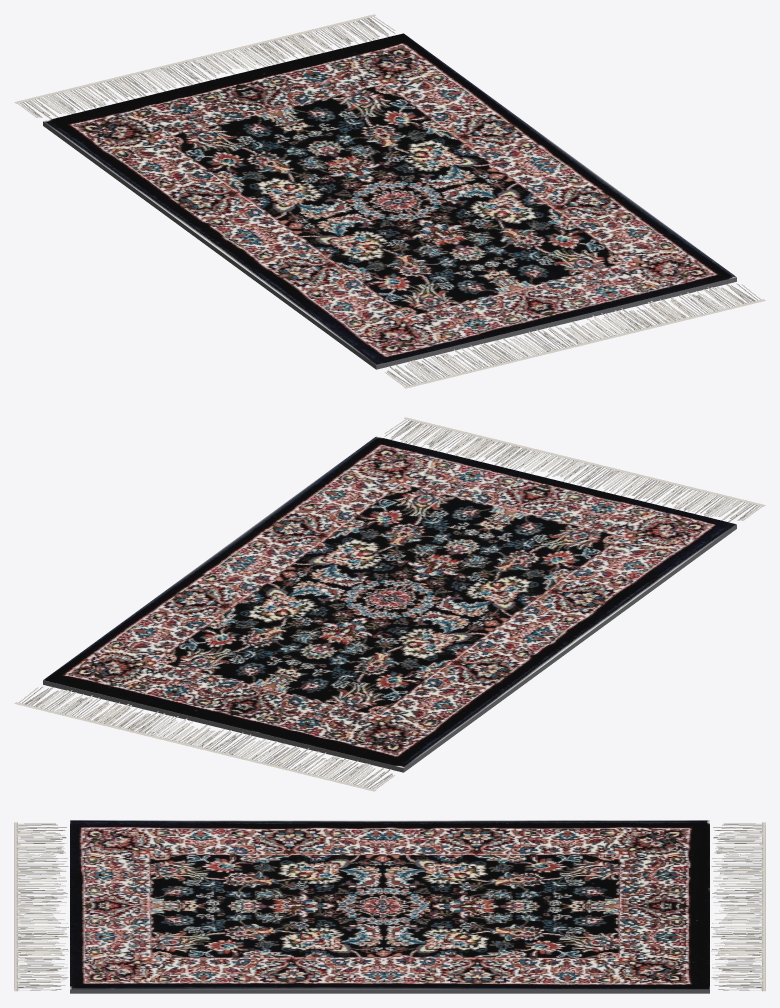
Rendered from rug_navy_50x80_v3.glb.
3 views of the same model, one above another, from view 1: azimuth 30°, elevation 25°; view 2: azimuth 150°, elevation 25°; view 3: azimuth 270°, elevation 25° (orthographic). The views are drawn at different scales.
Visible parts, largest first — view 1: rug, fringeB, fringeA, side; view 2: rug, fringeA, fringeB, side; view 3: rug, fringeA, fringeB, side.
Part boxes in pixels (<box>): rug: <box>43,33,736,364</box>; fringeB: <box>385,283,765,388</box>; fringeA: <box>14,14,395,119</box>; side: <box>43,121,736,369</box>; rug: <box>43,436,736,767</box>; fringeA: <box>14,686,394,791</box>; fringeB: <box>384,417,765,522</box>; side: <box>43,524,736,772</box>; rug: <box>70,820,709,989</box>; fringeA: <box>711,822,765,991</box>; fringeB: <box>14,822,68,991</box>; side: <box>70,989,709,993</box>.
Size of what is drawn, in the model's own units: 0.5 by 0.00614 by 0.94.
Materials: 2 (2 with a texture image).
